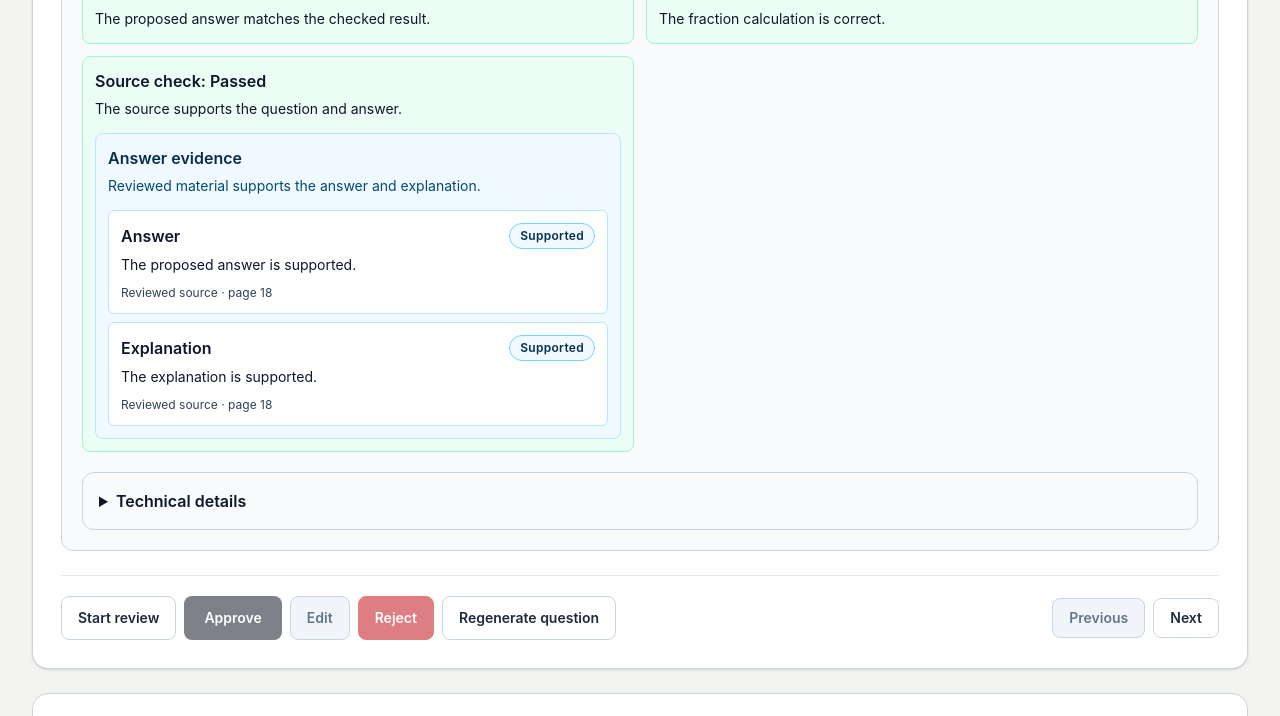
ReviewApproveStudio › preserves the local edit when a 409 reports another reviewer changed the question
The width and height of the screenshot is (1280, 716).
(page scrolled)
Click the button "Start review".
click(119, 618)  # box 61,596 -> 176,640
(page scrolled)
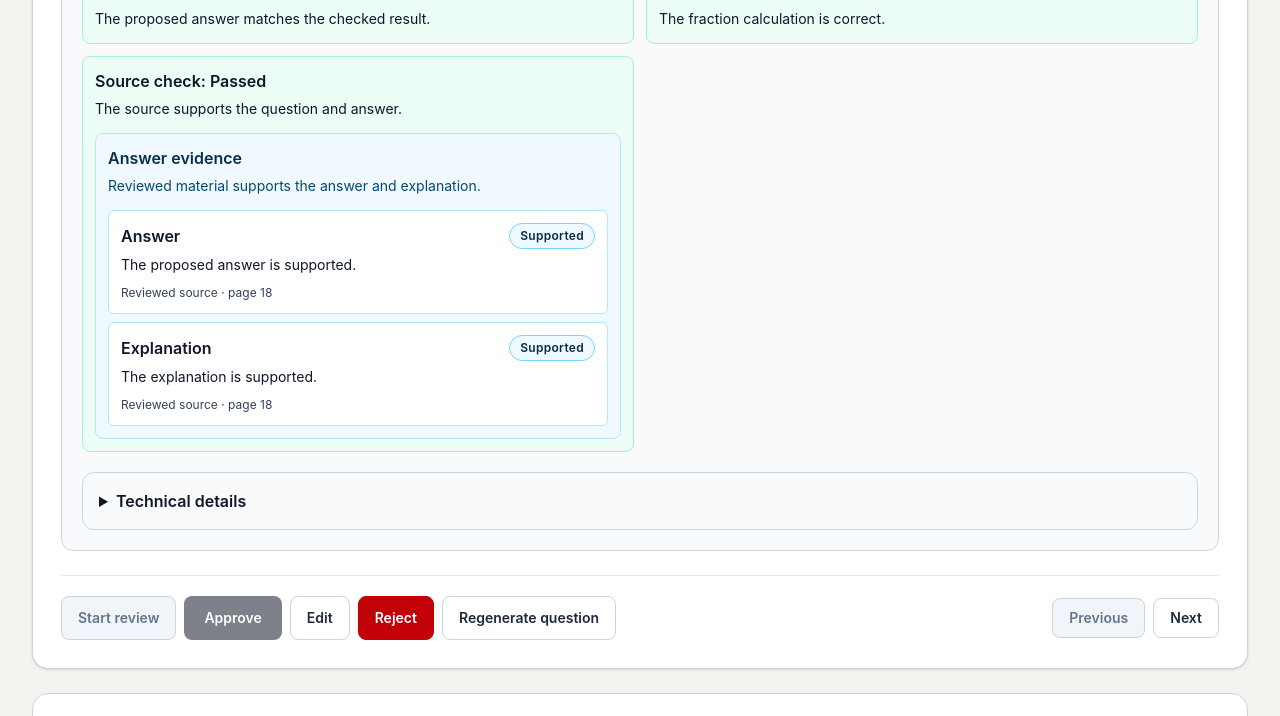
Click the button "Edit".
click(320, 618)  # box 290,596 -> 350,640
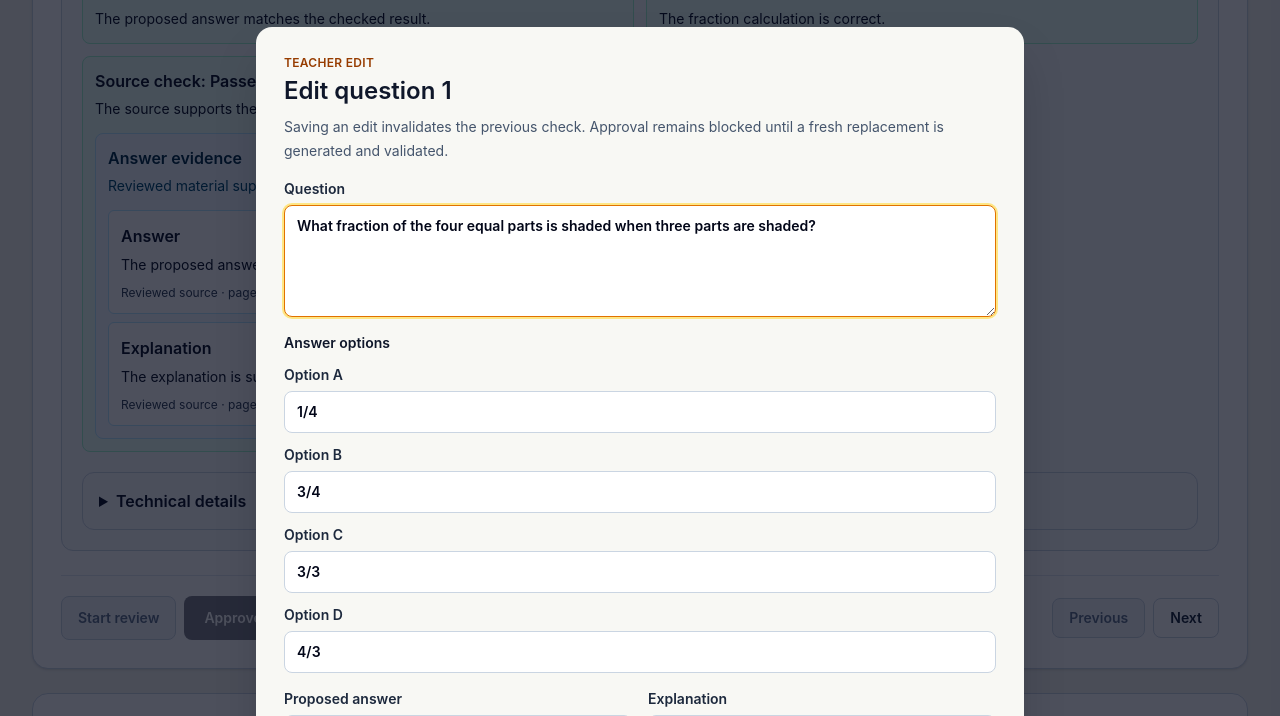
Replace the text in the text box labelled "Question" with "Keep this local wording even when the version changed." at x=640, y=261, box 284,205 -> 996,317
(page scrolled)
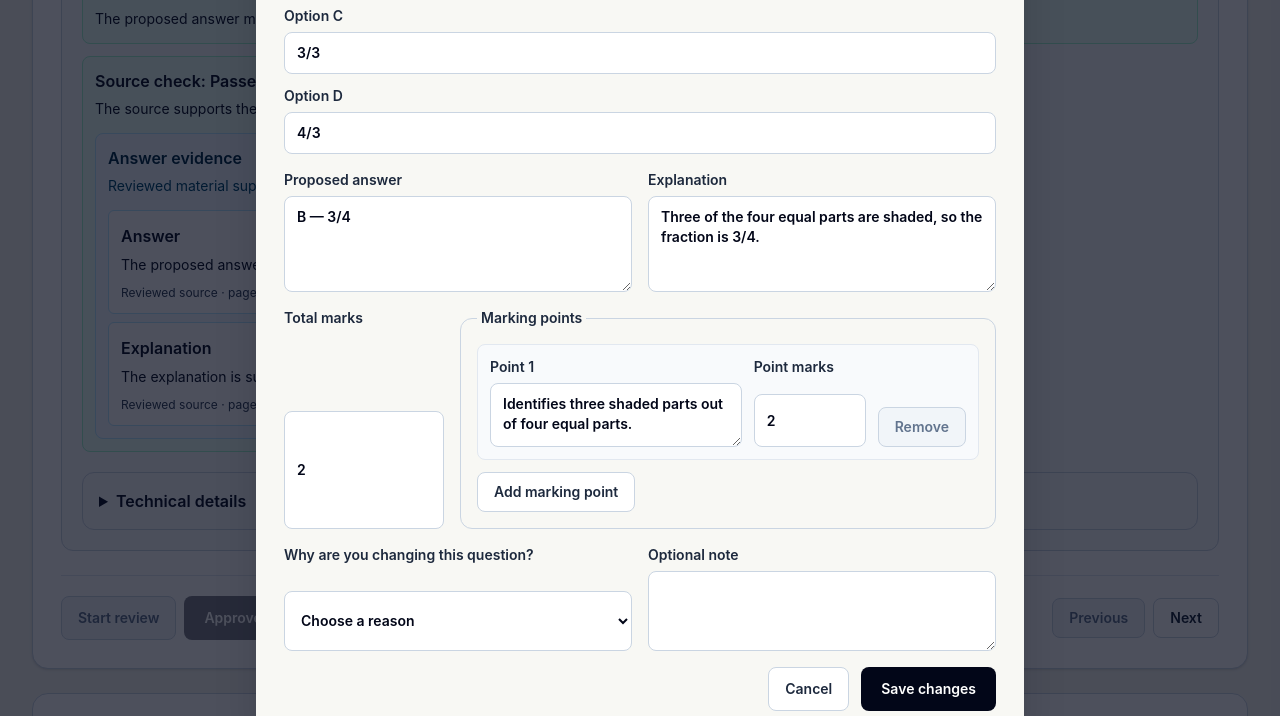
Select "The wording is unclear or ambiguous" in the dropdown labelled "Why are you changing this question?" at x=458, y=621, box 284,590 -> 632,651
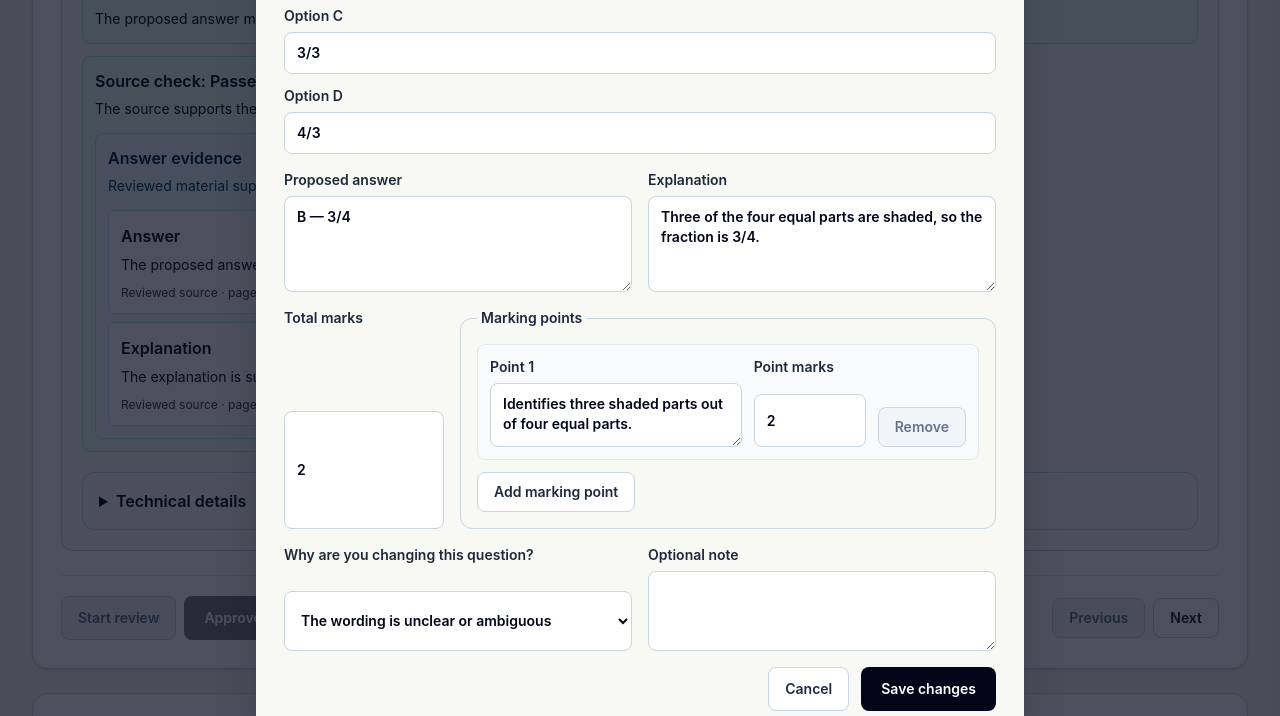
Type "Clarify wording." into the text box labelled "Optional note".
click(822, 611); type("Clarify wording.")  # box 648,571 -> 996,651
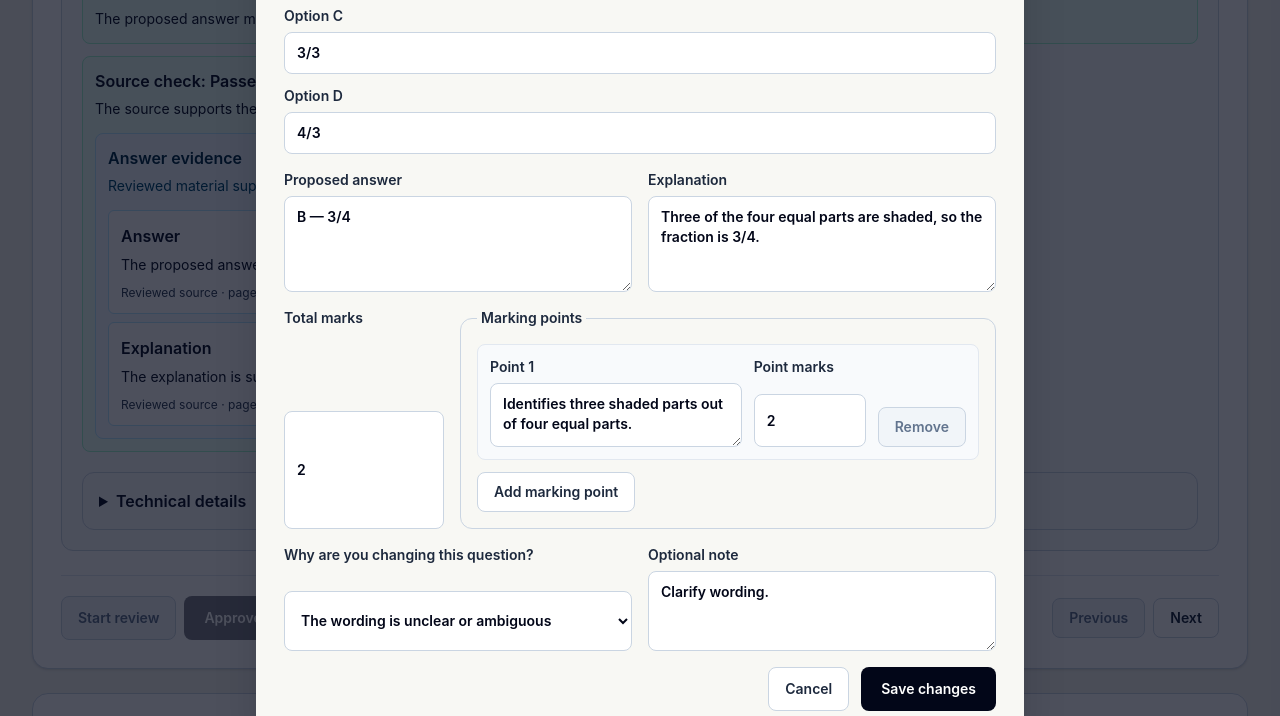
Click the button "Save changes".
click(929, 689)  # box 861,667 -> 996,711
(page scrolled)
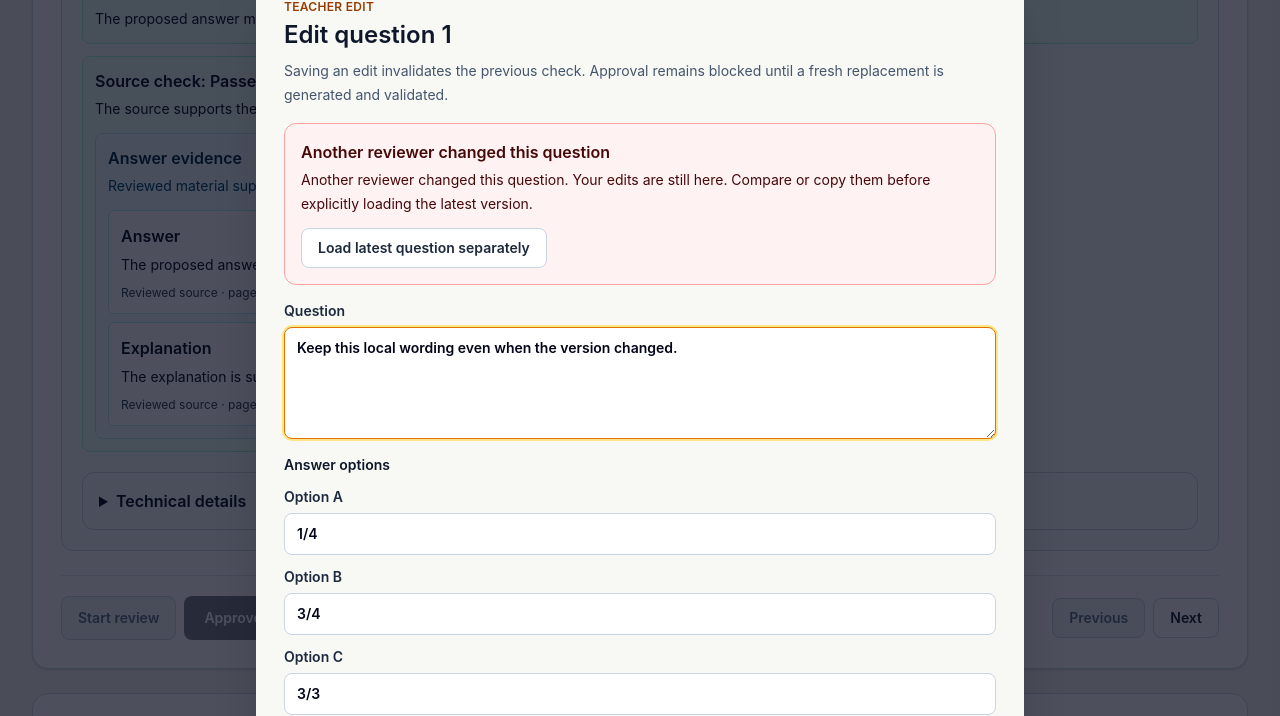
Expected: the message shows "Another reviewer changed this question", 301,142 -> 610,162
Expected: the message shows "Your edits are still here", 301,171 -> 930,212
